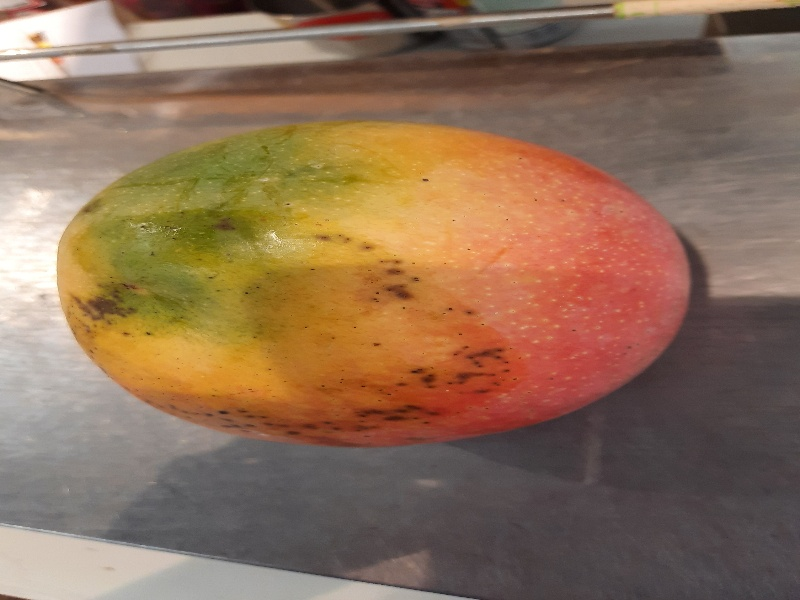fruit: (52, 119, 694, 453)
